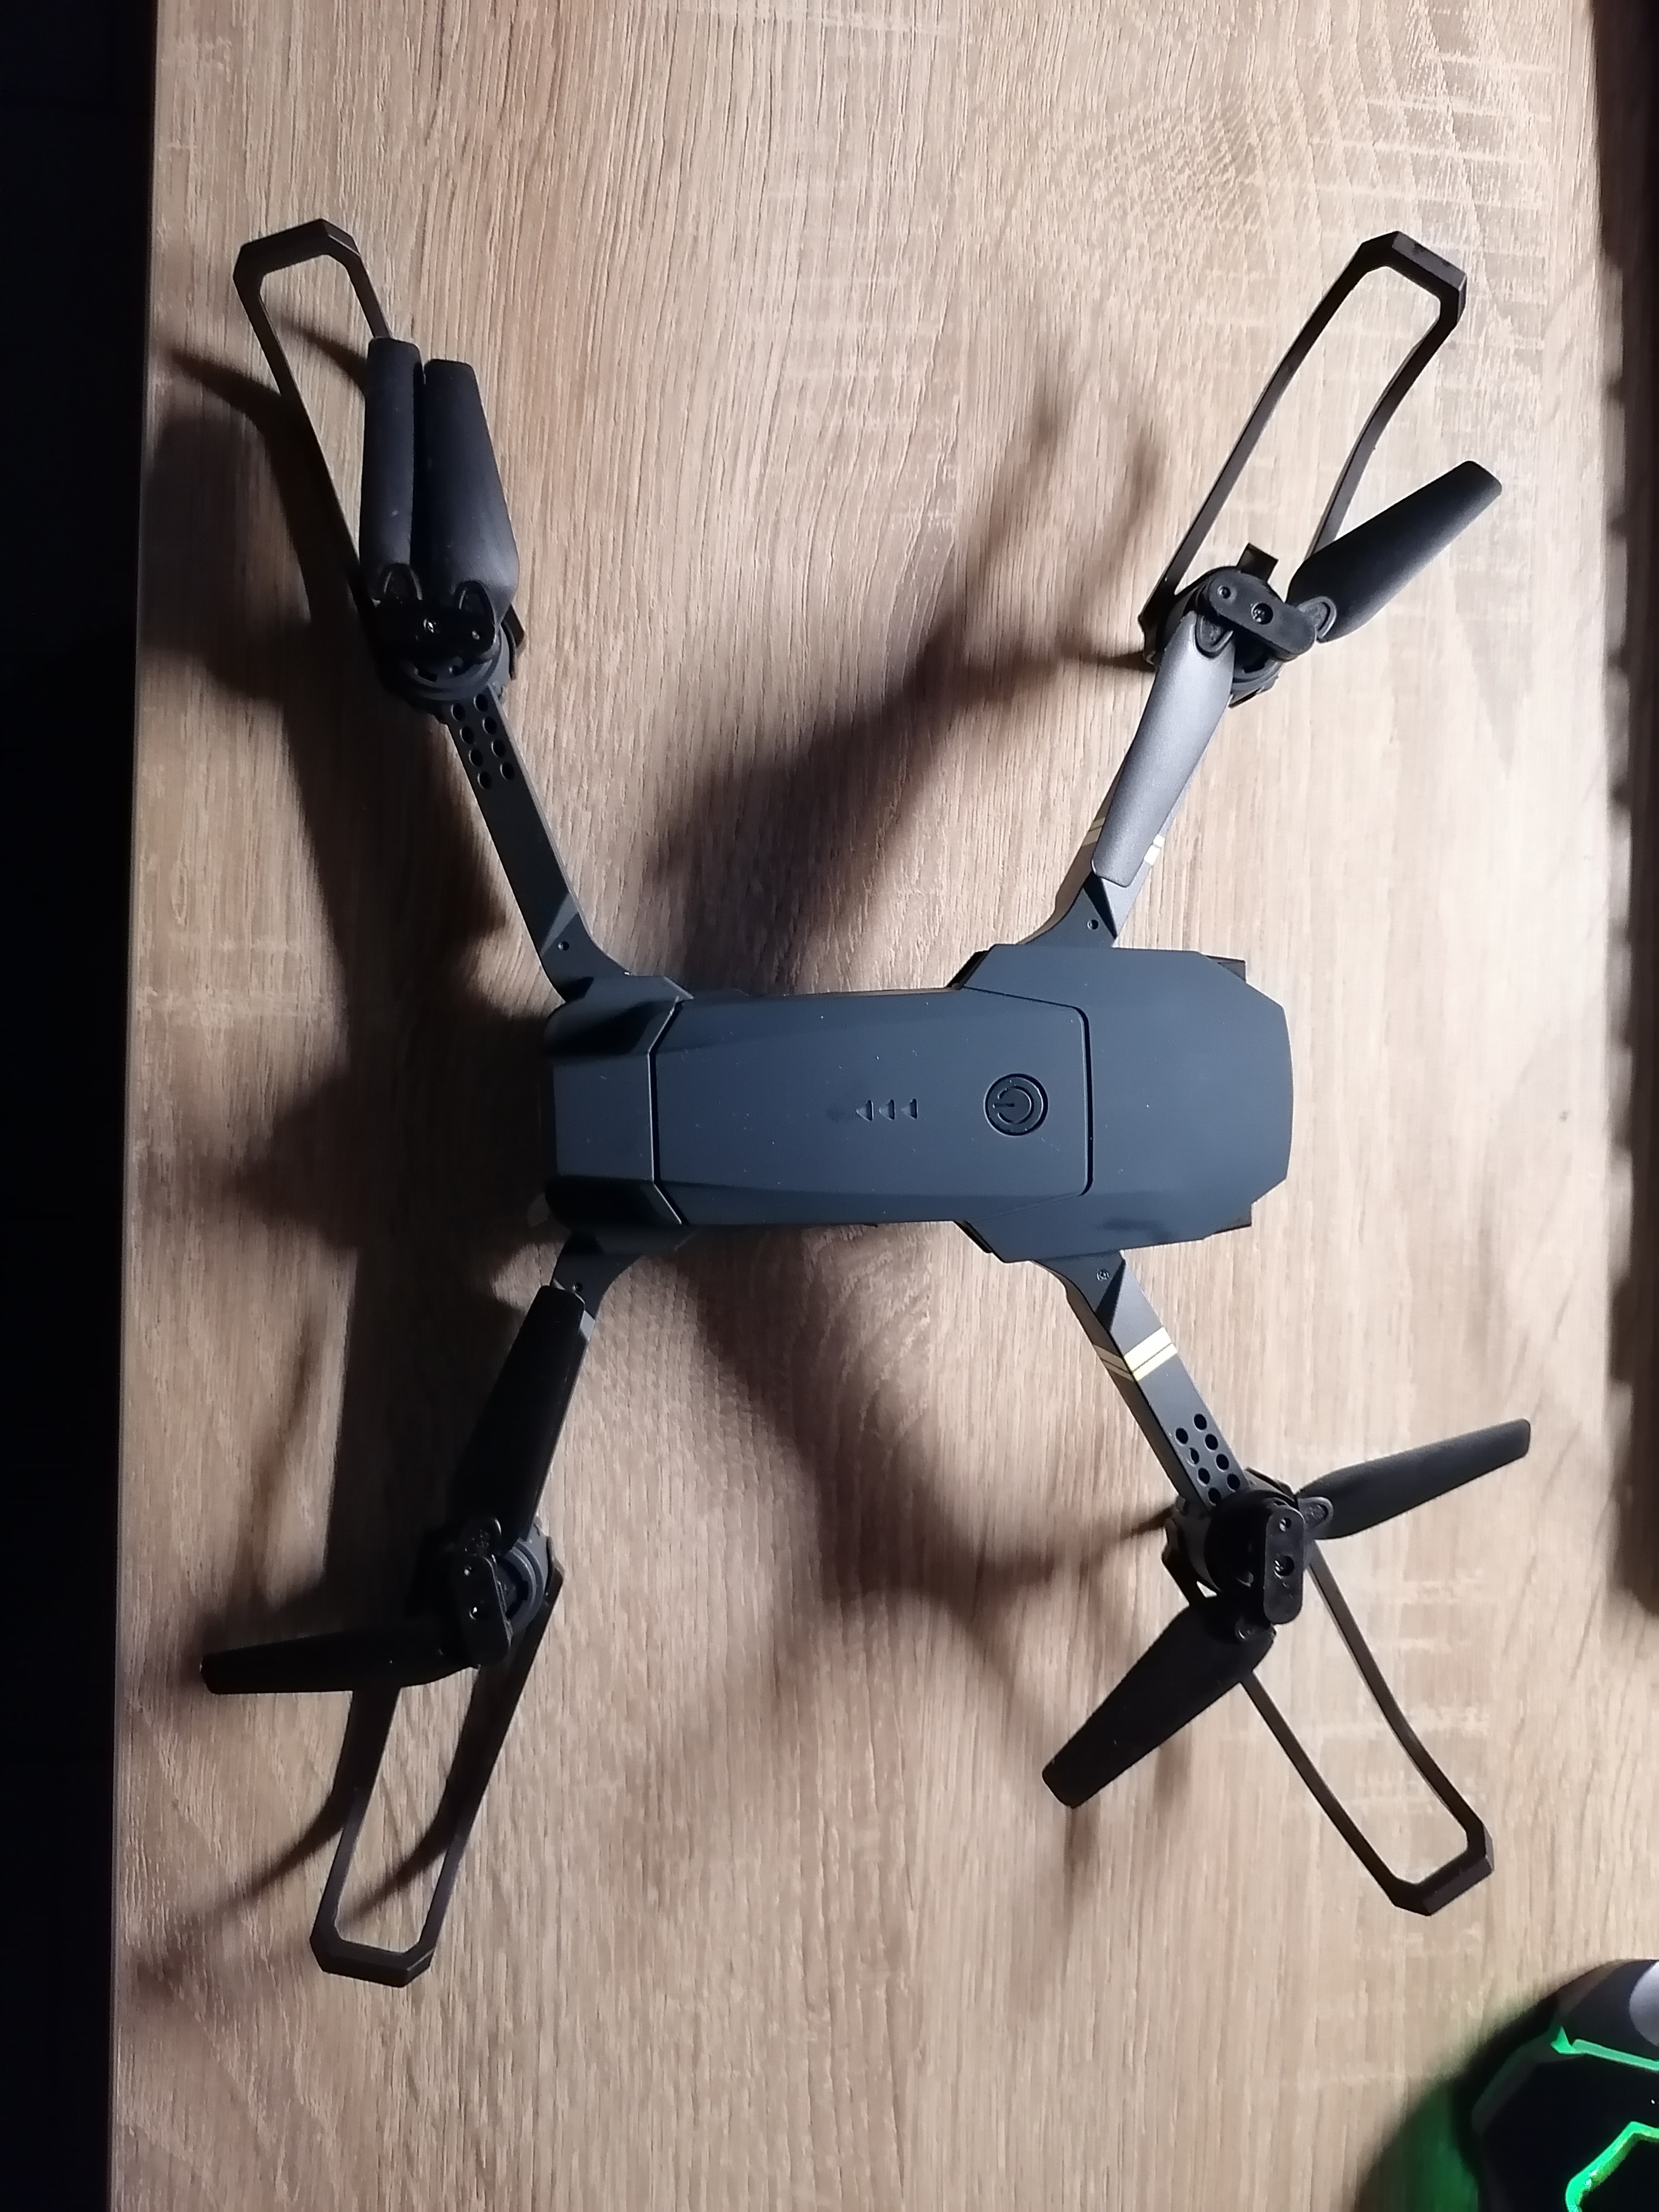drone: (178, 185, 1581, 1996)
